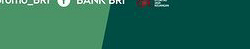ojk: (135, 1, 169, 11)
